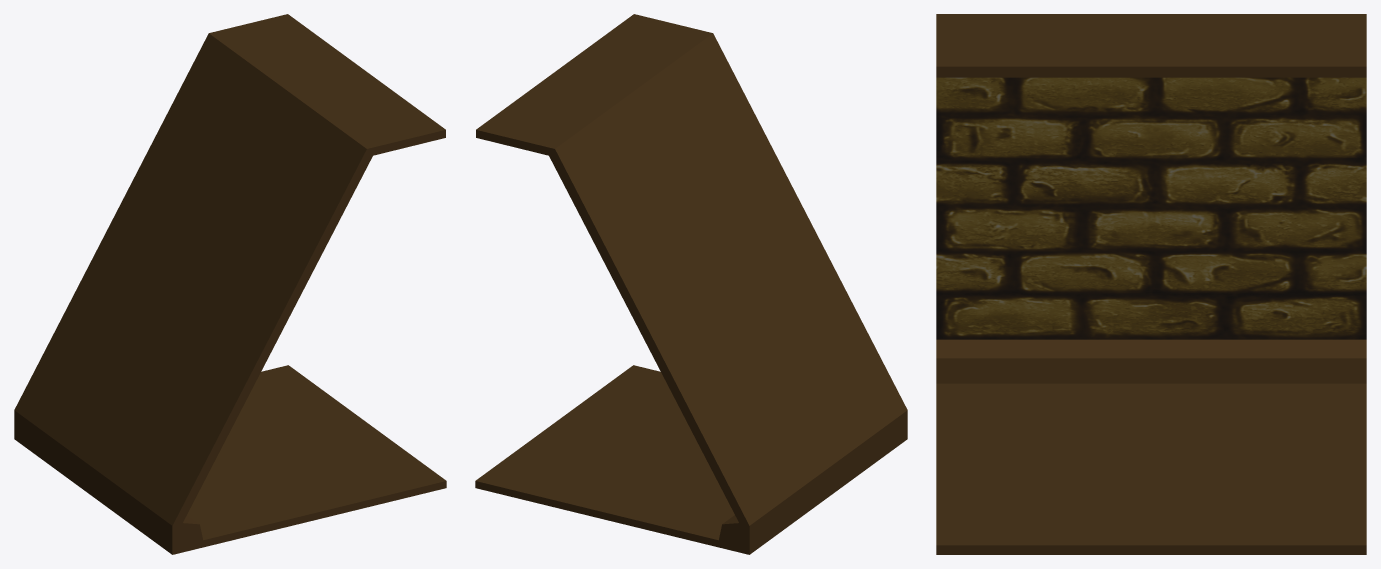
File: Wall.FBX
The picture shows the model from 3 angles, left to right: view 1: azimuth 30°, elevation 25°; view 2: azimuth 150°, elevation 25°; view 3: azimuth 270°, elevation 25°; orthographic projection. The views are drawn at different scales.
Visible parts, largest first — view 1: Wall 1; view 2: Wall 1; view 3: Wall 1.
Boxes of the visible parts, <box> form: Wall 1: <box>14,14,446,554</box>; Wall 1: <box>475,14,907,554</box>; Wall 1: <box>936,14,1366,554</box>.
Bounding box in the file's own units: 78.79 × 98.43 × 78.72.
